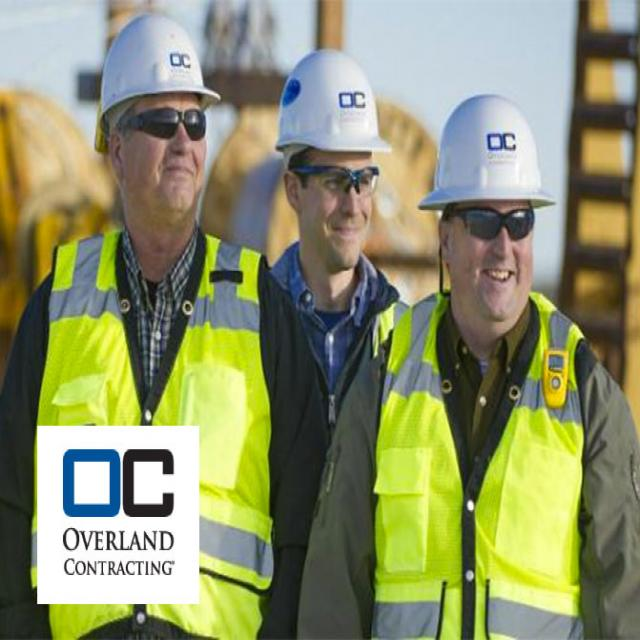Reflective-Jacket: (30, 236, 276, 638), (375, 297, 595, 637)
Safety-Helmet: (418, 84, 558, 220), (92, 7, 220, 122), (272, 44, 391, 167)
